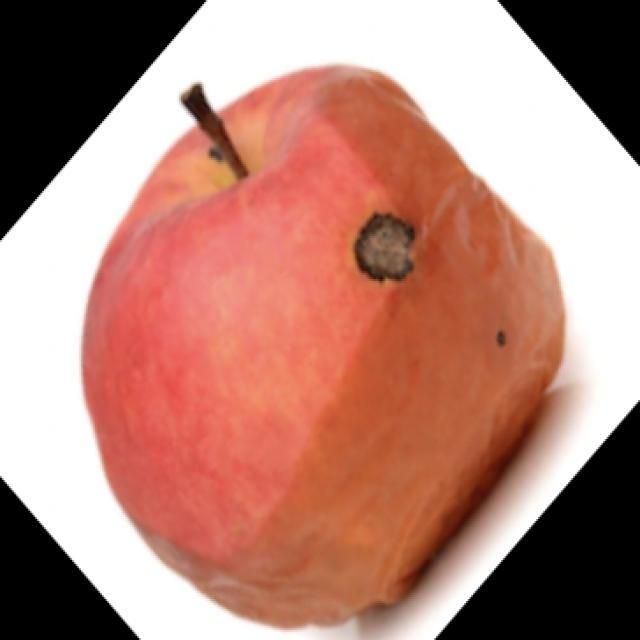Rotten: (70, 70, 558, 588)
